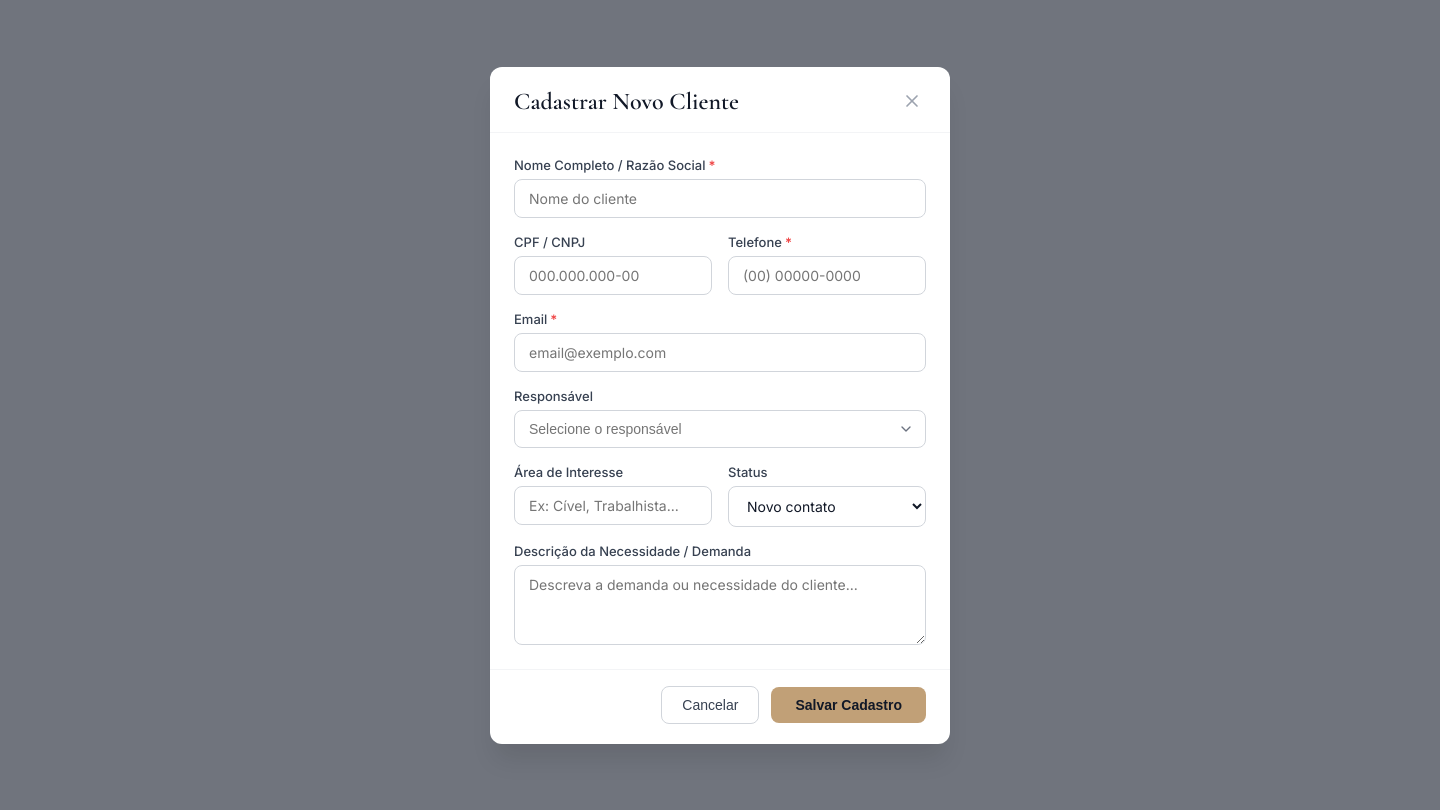
AddClientModal › bloqueia o envio e exibe erro quando há telefone em branco
Type "Cliente Teste" into the field with placeholder "Nome do cliente" at (720, 198), box [514, 178, 926, 218]
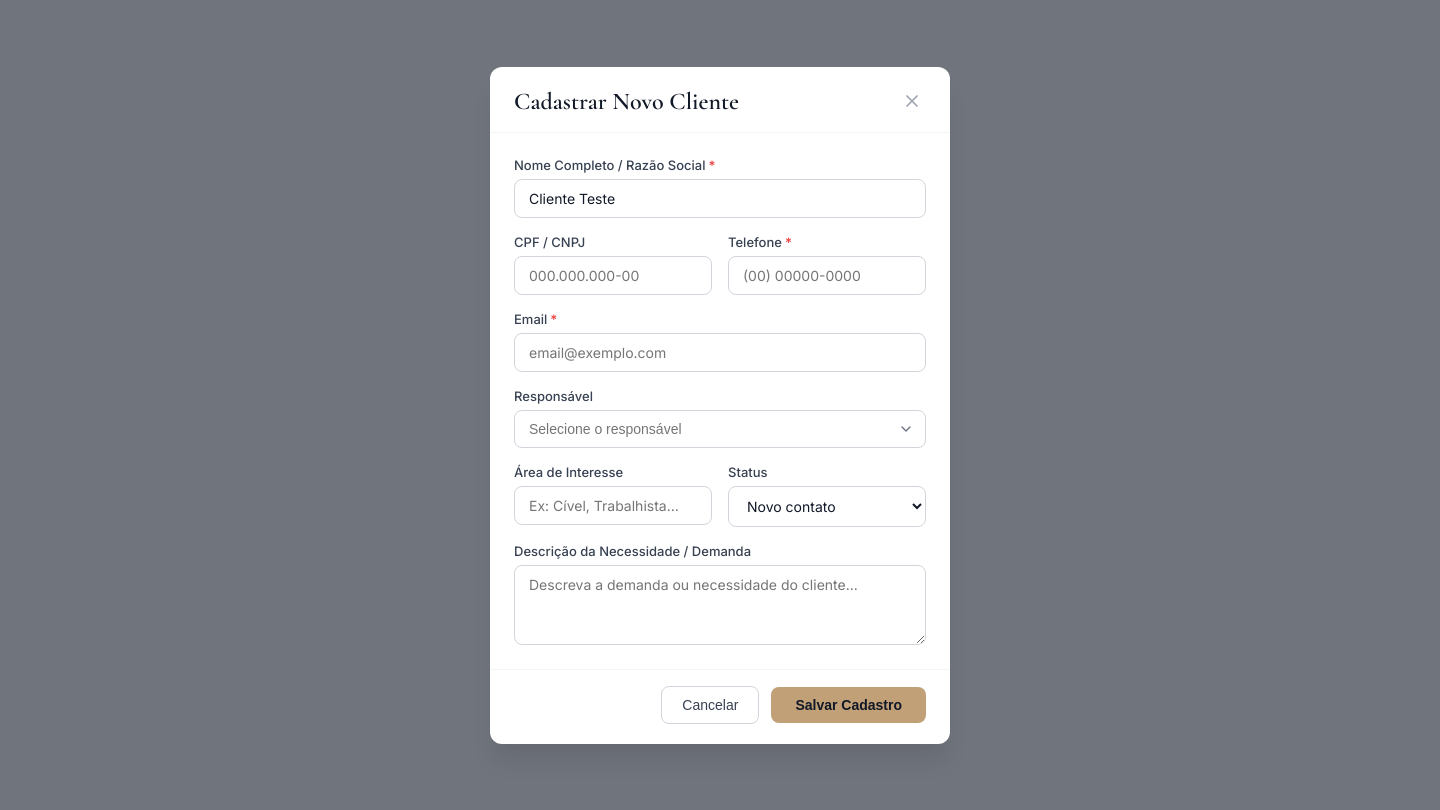
Type "teste@email.com" into the field with placeholder "email@exemplo.com" at (720, 352), box [514, 332, 926, 372]
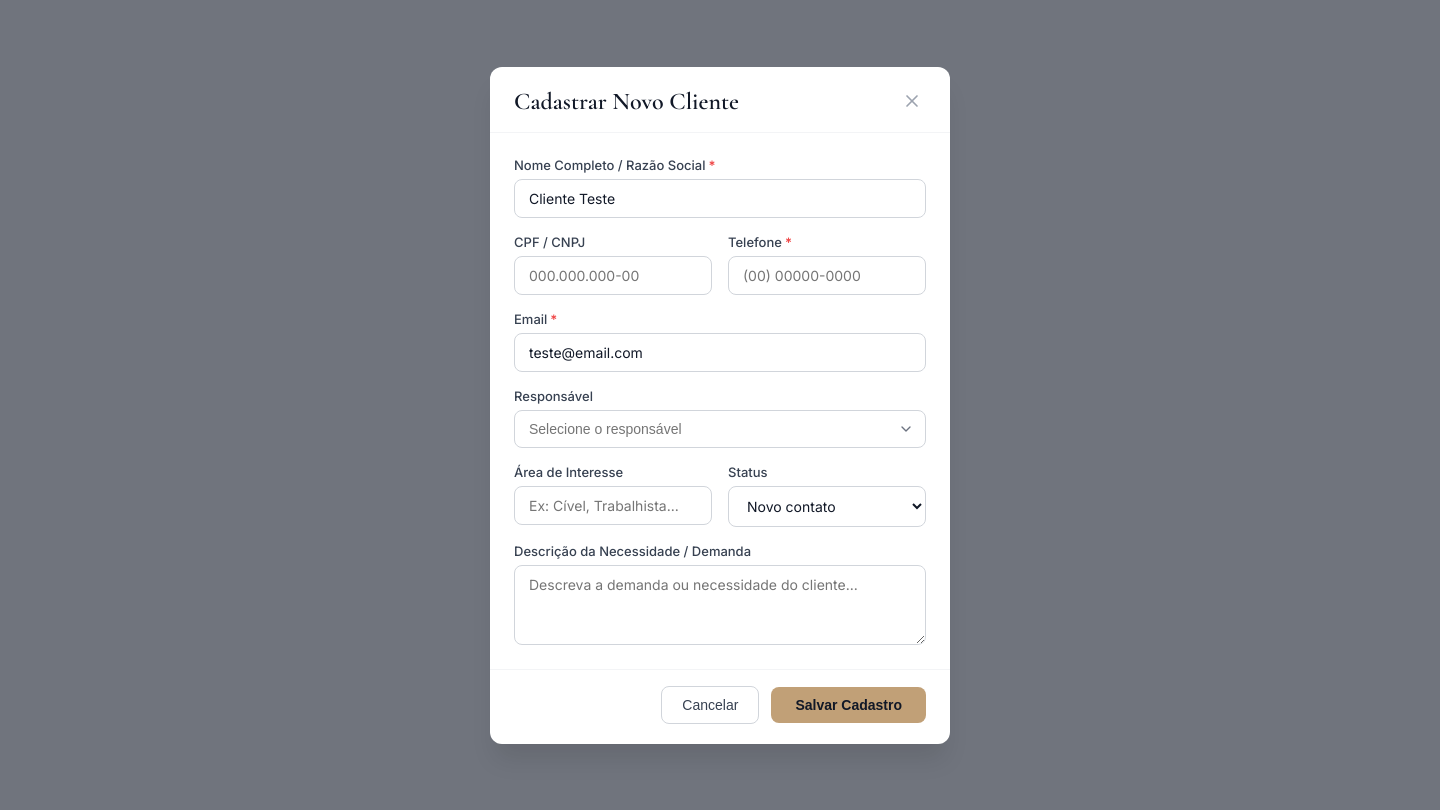
Click the button "Salvar Cadastro" at (849, 704), box [771, 686, 926, 722]
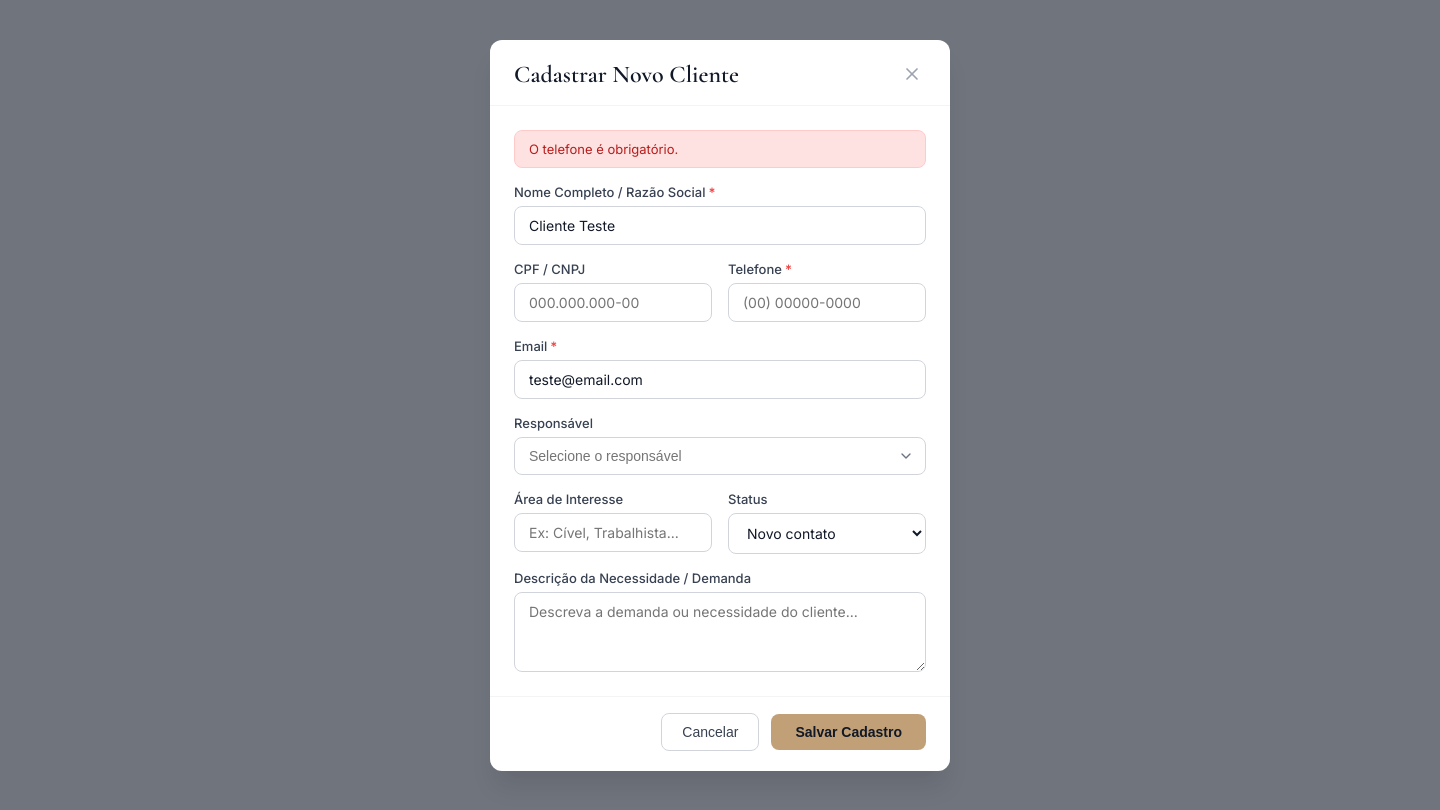
Result: the text "O telefone é obrigatório." is shown at [514, 130, 926, 168]
